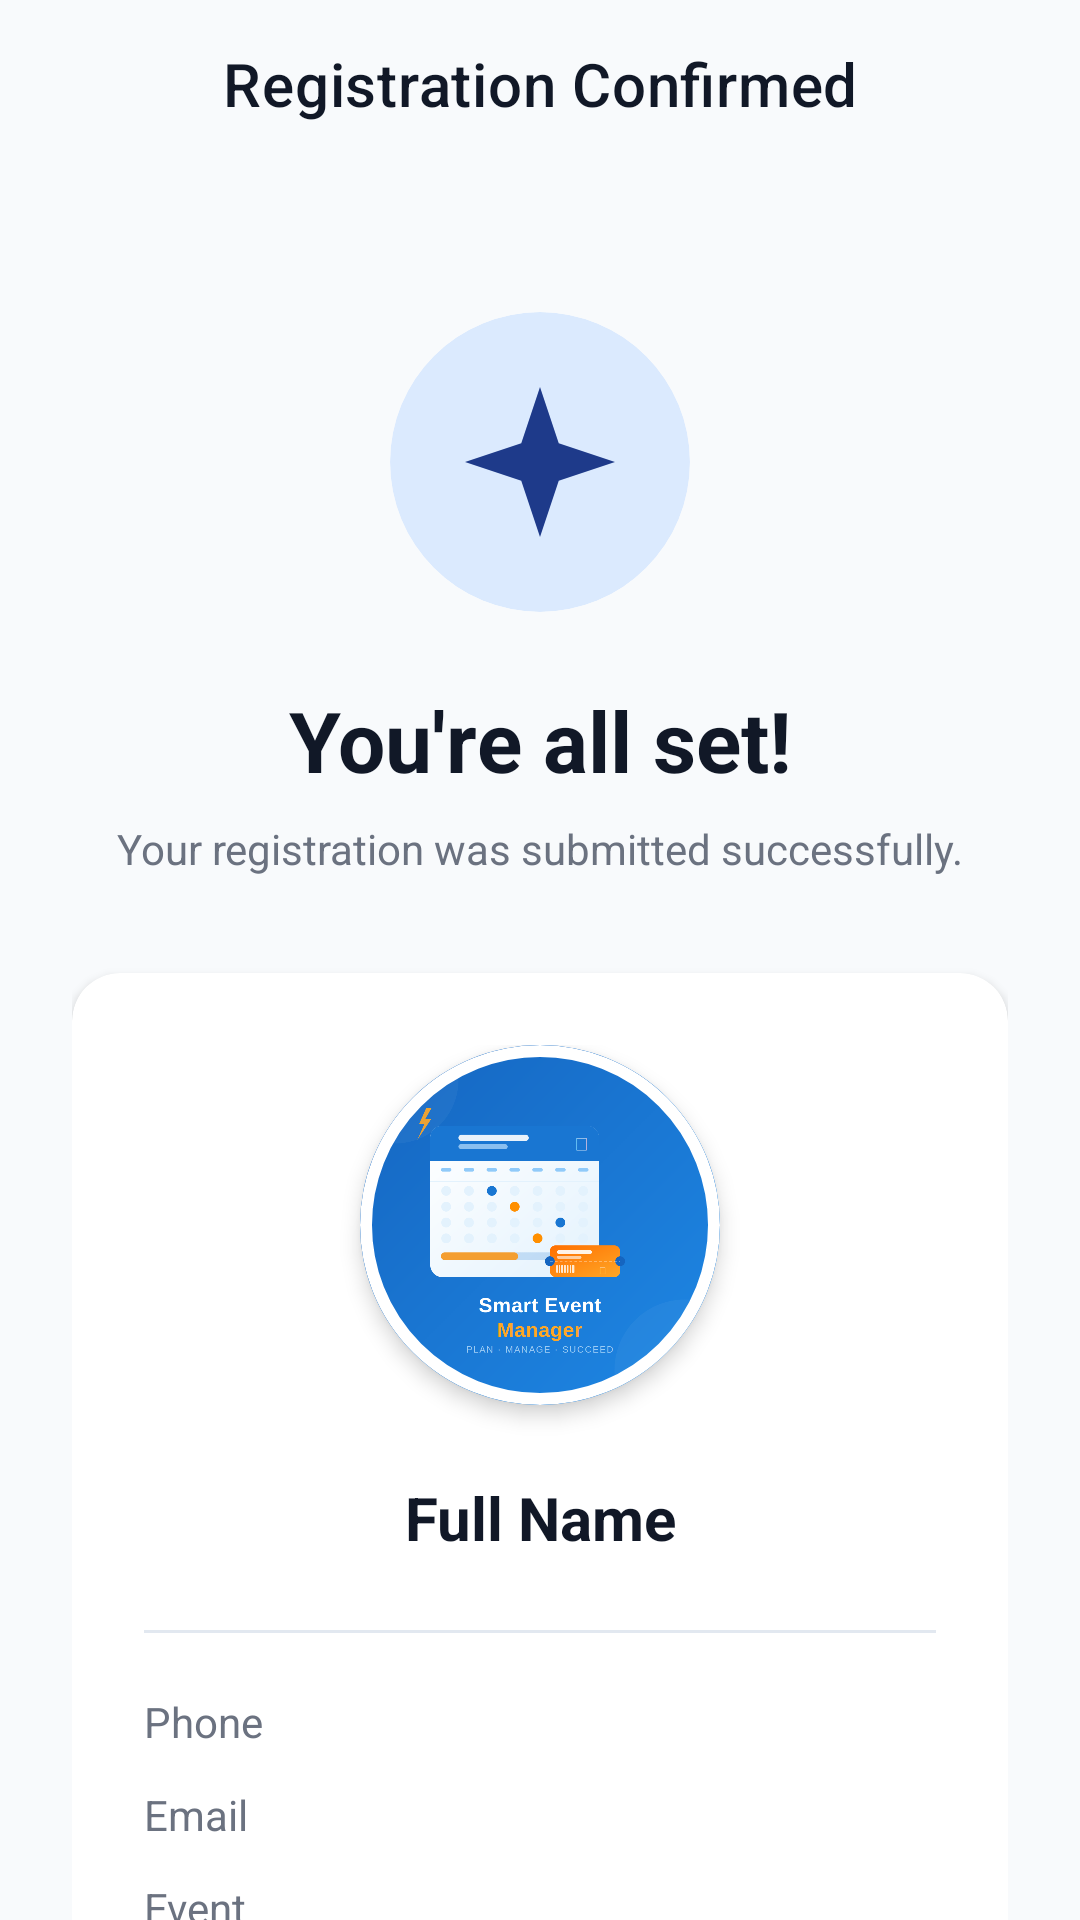

Where to tap for icons on this 1080 x 1920 app screen, as point (x, y):
sparkle: point (540, 462)
